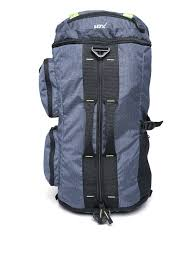backpack: (38, 9, 163, 224)
